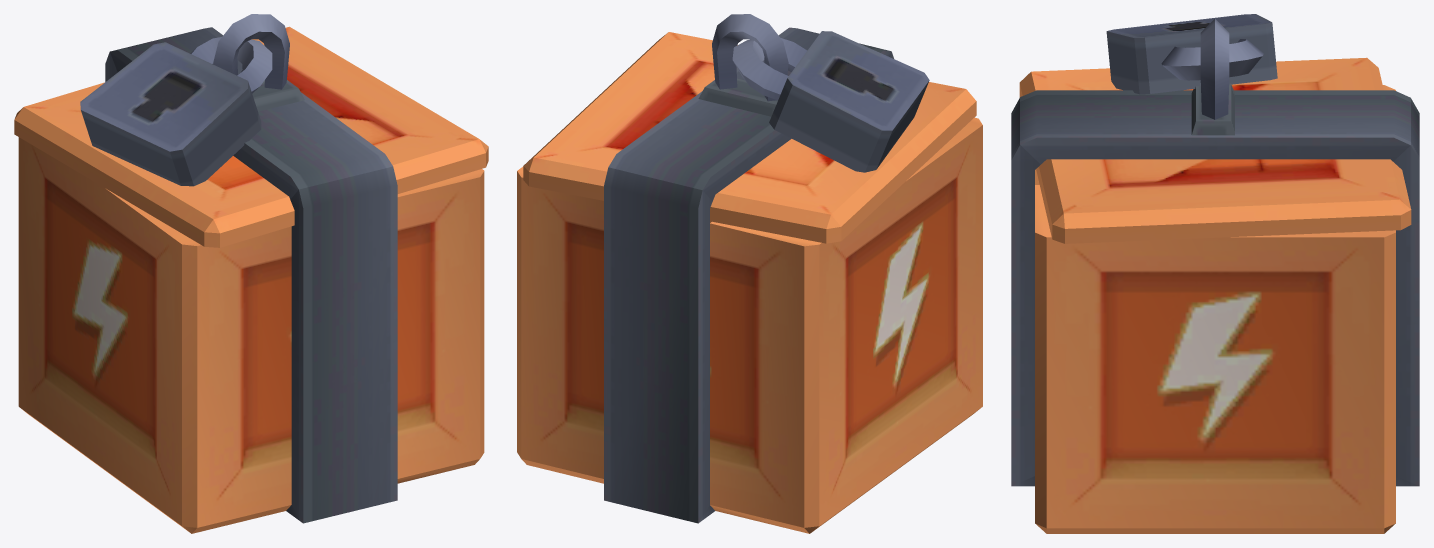
Rendered from boxes1.fbx.
3 renders of one model, left to right at view 1: azimuth 30°, elevation 25°; view 2: azimuth 150°, elevation 25°; view 3: azimuth 270°, elevation 25°, orthographic. The views are drawn at different scales.
Visible parts, largest first — view 1: boxes1; view 2: boxes1; view 3: boxes1.
Part boxes in pixels (left/top/right/bottom): boxes1: left=14, top=14, right=488, bottom=533; boxes1: left=517, top=14, right=982, bottom=533; boxes1: left=1011, top=14, right=1419, bottom=533.
Size of the model in its own units: 2.99 by 3.7 by 3.12.
Materials: 1 (1 with a texture image).
